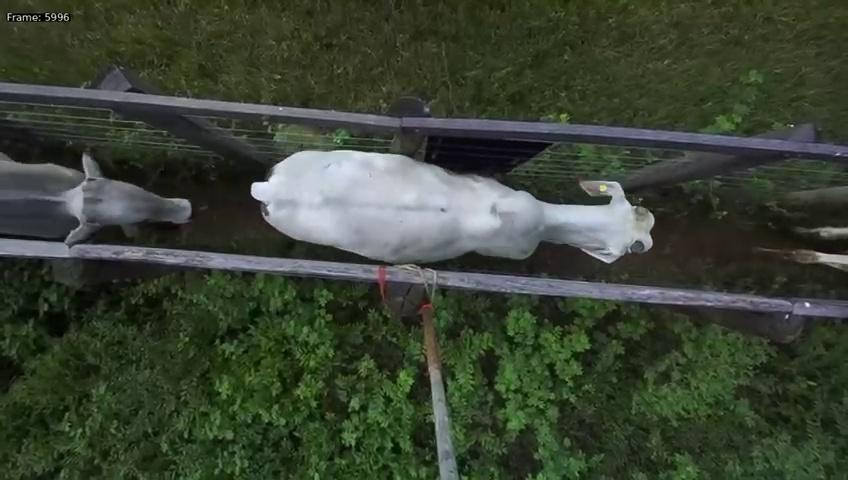cattle: (240, 139, 662, 272)
